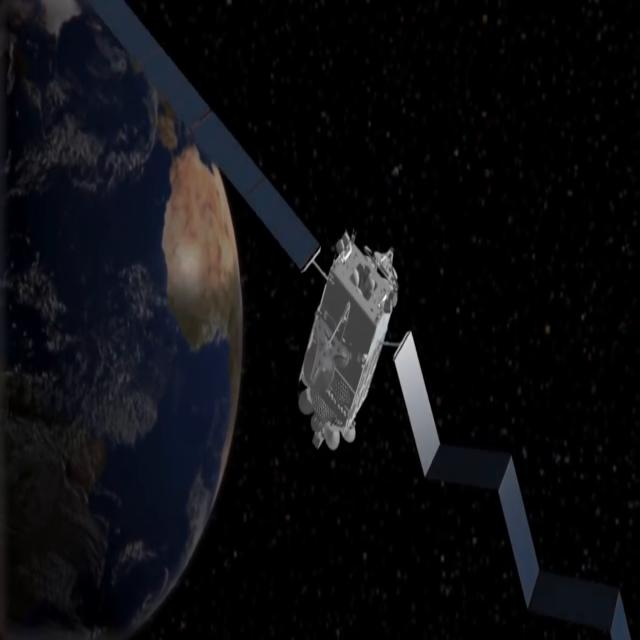large_debris: (496, 442, 548, 621), (608, 593, 640, 640)
medium_debris: (42, 0, 444, 485)
